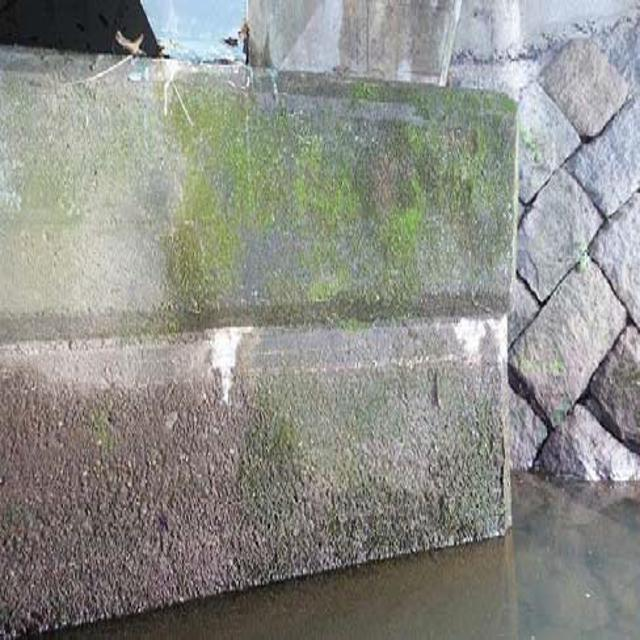freelime: (196, 318, 247, 403), (457, 301, 509, 366)
